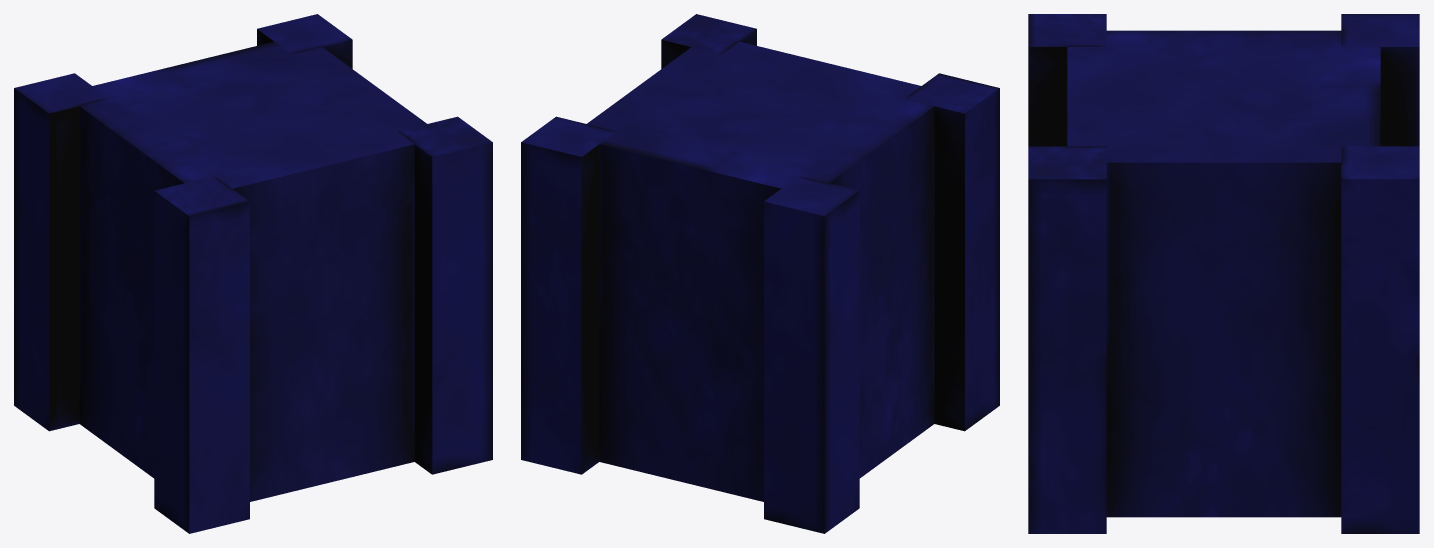
Rendered from beam_frozen.fbx.
3 renders of one model, left to right at view 1: azimuth 30°, elevation 25°; view 2: azimuth 150°, elevation 25°; view 3: azimuth 270°, elevation 25°, orthographic. The views are drawn at different scales.
Visible parts, largest first — view 1: beam_copper; view 2: beam_copper; view 3: beam_copper.
Part boxes in pixels (x1,y1,x2,y2): beam_copper: (14,14,492,533); beam_copper: (521,14,999,533); beam_copper: (1028,14,1419,533).
Size of the model in its own units: 200 by 200 by 200.
1 material, 1 textured.
